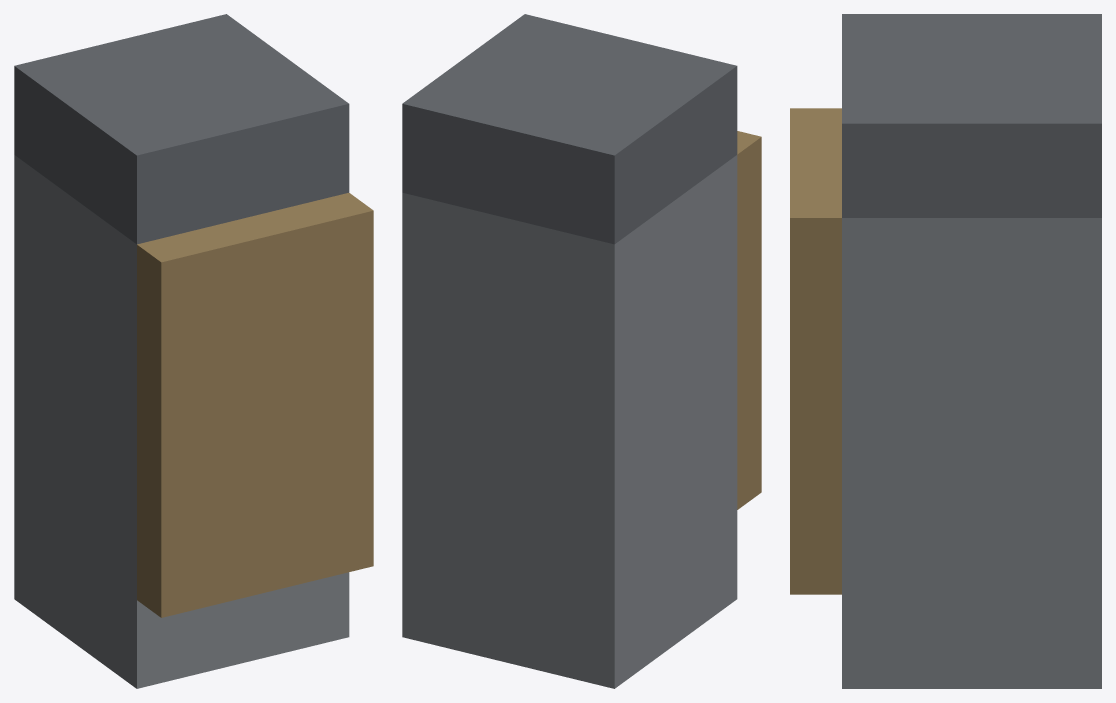
Rendered from right_shin.glb.
The picture shows the model from 3 angles, left to right: view 1: azimuth 30°, elevation 25°; view 2: azimuth 150°, elevation 25°; view 3: azimuth 270°, elevation 25°; orthographic projection. The views are drawn at different scales.
Size of the model in its own units: 5 by 12 by 6.
